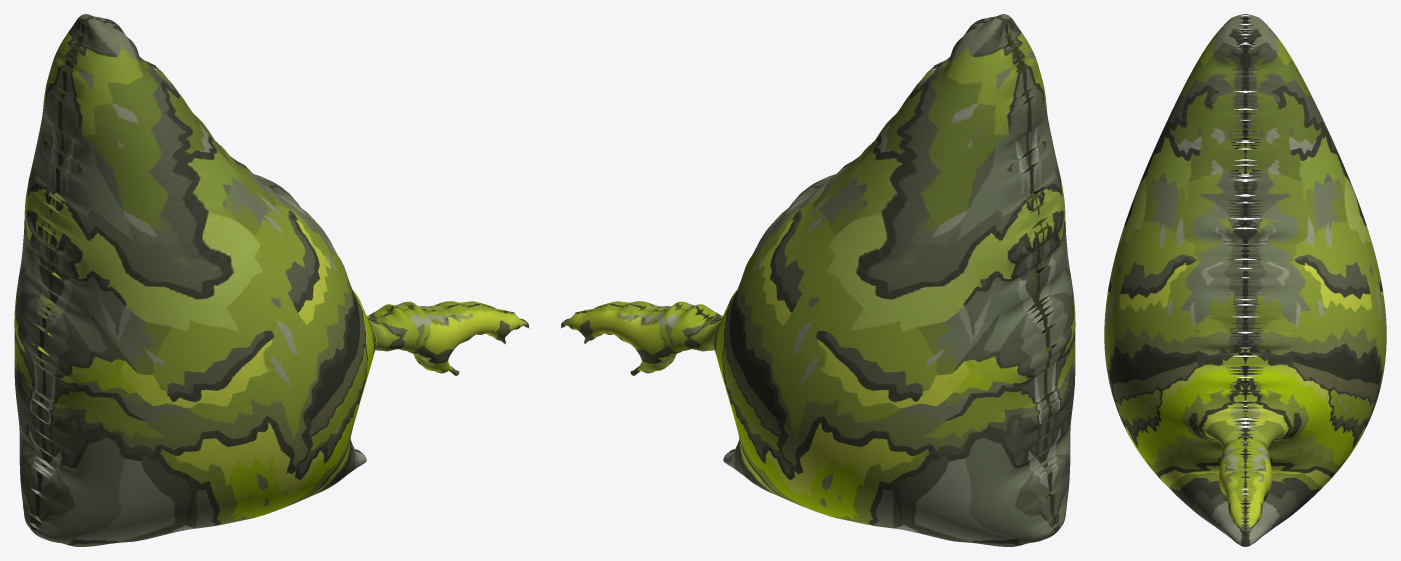
The model's file is mossy_bluff.glb.
3 views of the same model, side by side, from view 1: azimuth 30°, elevation 25°; view 2: azimuth 150°, elevation 25°; view 3: azimuth 270°, elevation 25° (orthographic). The views are drawn at different scales.
Parts seen in each view (by area): view 1: mossy_bluff; view 2: mossy_bluff; view 3: mossy_bluff.
Part boxes in pixels (box(x1,y1,x2,y2)): mossy_bluff: box(14, 14, 529, 546); mossy_bluff: box(560, 14, 1075, 546); mossy_bluff: box(1104, 14, 1386, 546).
Size of the model in its own units: 0.9891 by 0.9889 by 0.5876.
1 material, 1 textured.
